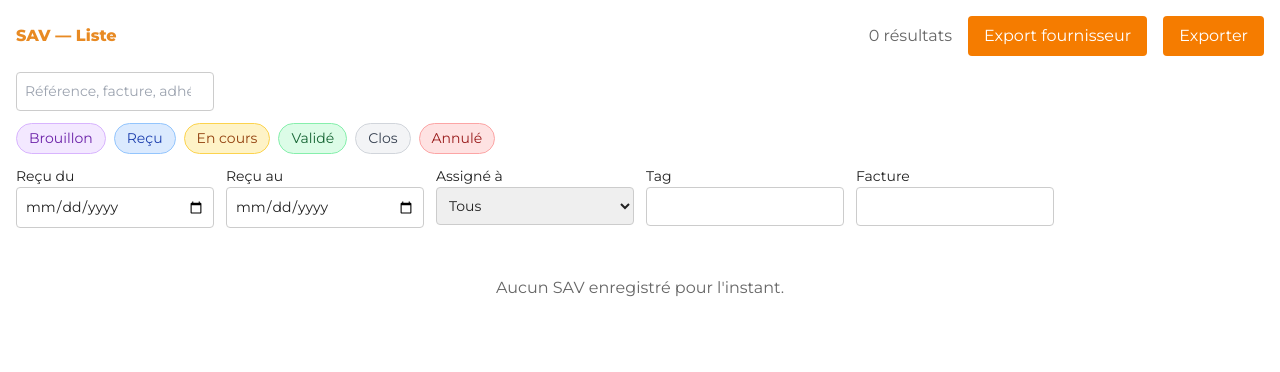
Test: SavListView — Export CSV/XLSX (Story 5.4 AC #11) › TC-04: switch_to_xlsx → toast info avec bouton « Générer XLSX »
Click the button with test id "btn-export-csv": click(1214, 36) [1163,16,1264,56]
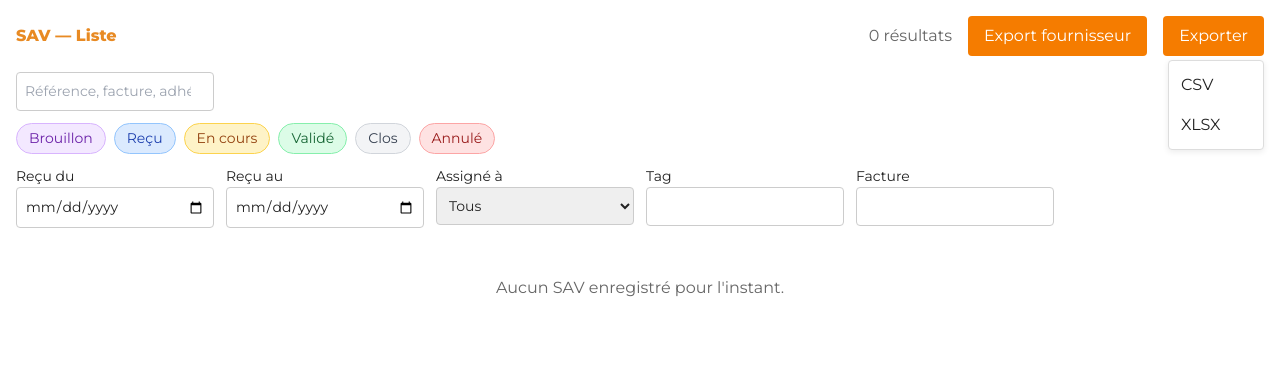
Click the menu item with test id "btn-export-csv-format": click(1216, 85) [1169,65,1263,105]
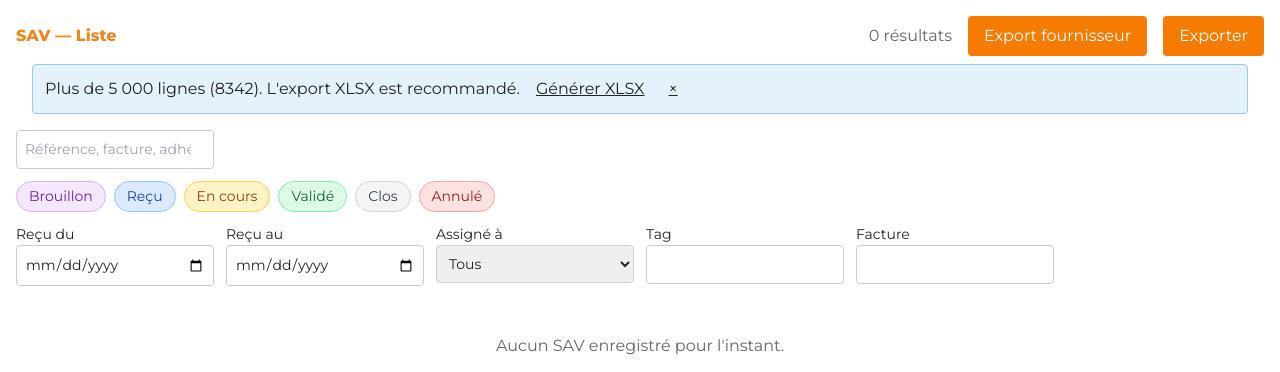
Check: the message "Plus de 5 000 lignes (8342). L'export XLSX est recommandé. Générer XLSX ×" is shown, box [32,64,1248,114]
Check: the message with test id "export-toast" shows "5 000", box [45,79,520,98]
Check: the message with test id "export-toast" shows "8342", box [45,79,520,98]
